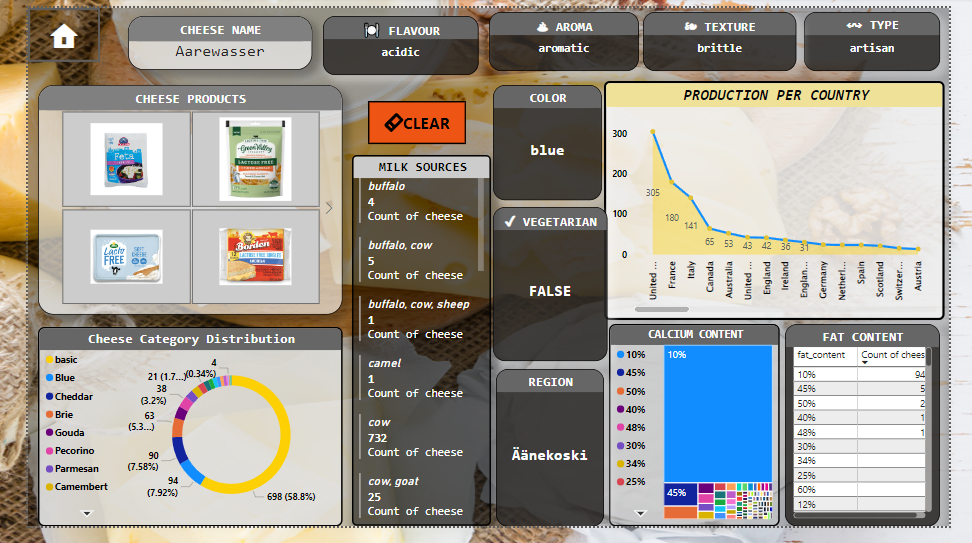

The dashboard page shown, as its layout file describes it:
{"tool":"powerbi","page":{"name":"Page 1","canvas":[1280,720],"ordinal":0},"visuals":[{"type":"card","title":"↭ TYPE","fields":{"Values":["Min(cheeses.type)"]},"box":[1077.9,6,188.6,82.3],"z":0},{"type":"card","title":" COLOR","fields":{"Values":["Min(cheeses.color)"]},"box":[645.2,106.3,151.2,160.2],"z":1000},{"type":"card","title":"♨  AROMA","fields":{"Values":["Min(cheeses.aroma)"]},"box":[640.7,6,208.1,82.3],"z":2000},{"type":"card","title":"❧ TEXTURE","fields":{"Values":["Min(cheeses.texture)"]},"box":[854.8,6,212.6,82.3],"z":3000},{"type":"card","title":"🍽️  FLAVOUR","fields":{"Values":["Min(cheeses.flavor)"]},"box":[410.2,10.5,215.6,82.3],"z":4000},{"type":"card","title":"CHEESE NAME","fields":{"Values":["Min(cheeses.cheese)"]},"box":[139.2,10.5,256,74.9],"z":5000},{"type":"stackedAreaChart","title":"PRODUCTION PER COUNTRY ","fields":{"Category":["cheeses.country"],"Y":["CountNonNull(cheeses.producers)"]},"box":[800,101,473,332],"z":6000},{"type":"slicer","title":"CHEESE PRODUCTS","fields":{"Values":["cheeses.url"]},"box":[14,107,423,319],"z":7000},{"type":"card","title":"✔ VEGETARIAN ","fields":{"Values":["Min(cheeses.vegetarian)"]},"box":[645.2,277,158.7,214.1],"z":8000},{"type":"donutChart","title":"Cheese Category  Distribution","fields":{"Category":["cheeses.family"],"Y":["CountNonNull(cheeses.cheese)"]},"box":[14,443,423,277],"z":9000},{"type":"treemap","title":"CALCIUM CONTENT","fields":{"Group":["cheeses.fat_content"],"Values":["CountNonNull(cheeses.cheese)"]},"box":[807,439,237,281],"z":10000},{"type":"tableEx","title":"FAT CONTENT ","fields":{"Values":["cheeses.fat_content","CountNonNull(cheeses.cheese)"]},"box":[1051,439,215,281],"z":11000},{"type":"multiRowCard","title":"MILK SOURCES","fields":{"Values":["cheeses.milk","CountNonNull(cheeses.cheese)"]},"box":[449.4,204.5,193.1,515],"z":12000},{"type":"card","title":"REGION ","fields":{"Values":["Min(cheeses.region)"]},"box":[649.7,501.5,149.7,218.6],"z":13000},{"type":"actionButton","box":[471.6,128.7,136.2,59.9],"z":14000},{"type":"actionButton","box":[0,0,100.3,74.9],"z":15000}]}

Visuals, with their boxes in screenshot pixels (x1, y1, x2, y2), scaled from the page's 1280x720 canvas onto the 972x543 screenshot:
"↭ TYPE" card: rect(819, 5, 962, 67)
" COLOR" card: rect(490, 80, 605, 201)
"♨  AROMA" card: rect(487, 5, 645, 67)
"❧ TEXTURE" card: rect(649, 5, 811, 67)
"🍽️  FLAVOUR" card: rect(311, 8, 475, 70)
"CHEESE NAME" card: rect(106, 8, 300, 64)
"PRODUCTION PER COUNTRY " stackedAreaChart: rect(608, 76, 967, 327)
"CHEESE PRODUCTS" slicer: rect(11, 81, 332, 321)
"✔ VEGETARIAN " card: rect(490, 209, 610, 370)
"Cheese Category  Distribution" donutChart: rect(11, 334, 332, 542)
"CALCIUM CONTENT" treemap: rect(613, 331, 793, 542)
"FAT CONTENT " tableEx: rect(798, 331, 961, 542)
"MILK SOURCES" multiRowCard: rect(341, 154, 488, 542)
"REGION " card: rect(493, 378, 607, 542)
actionButton: rect(358, 97, 462, 142)
actionButton: rect(0, 0, 76, 56)
